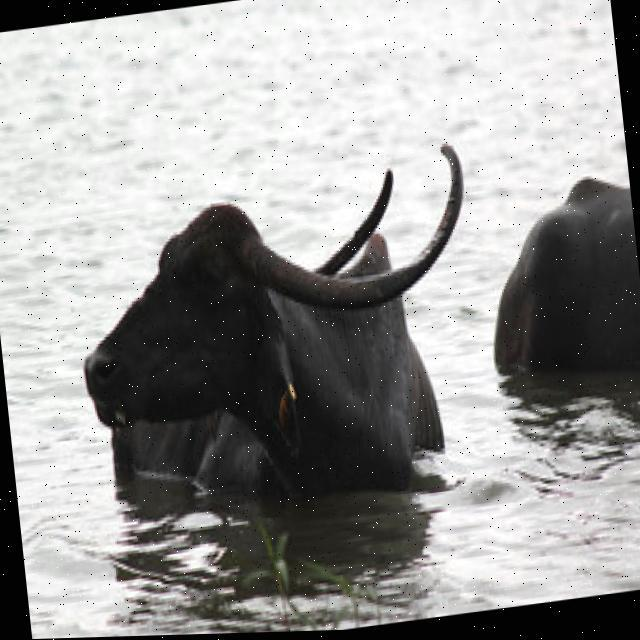Buffalo: (58, 135, 495, 520)
